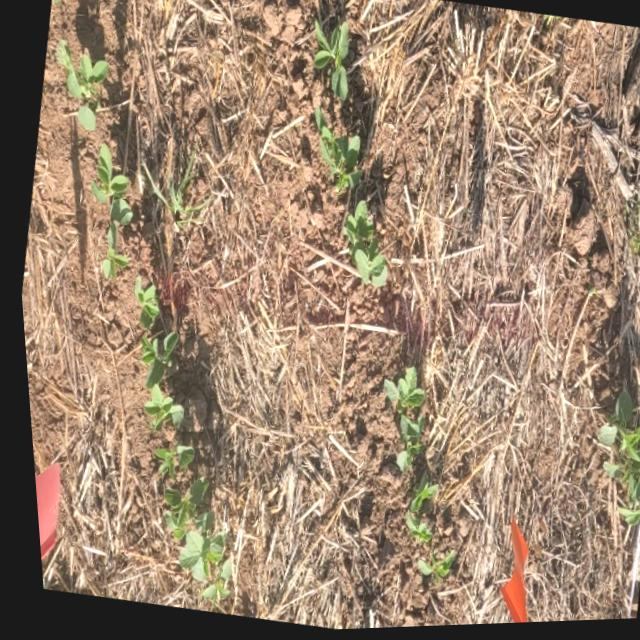grassy_weed: (142, 153, 207, 230), (623, 197, 640, 268)
soy_plant: (156, 478, 223, 603), (590, 397, 640, 528), (88, 145, 128, 278), (396, 482, 446, 587), (55, 41, 107, 130), (376, 370, 418, 473), (134, 333, 176, 435), (338, 203, 383, 289), (312, 110, 357, 193), (490, 525, 519, 626), (312, 27, 346, 101), (147, 442, 187, 484), (128, 279, 155, 333)
